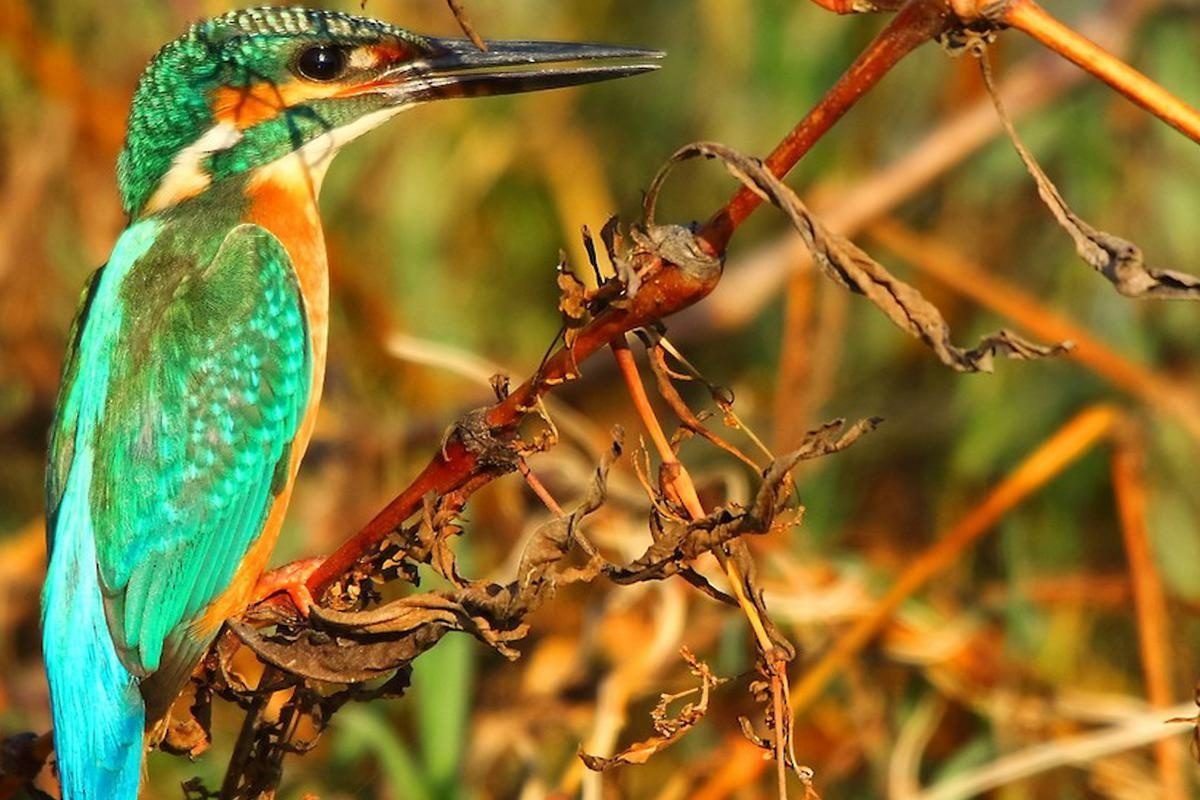kingfisher: (1, 15, 684, 779)
